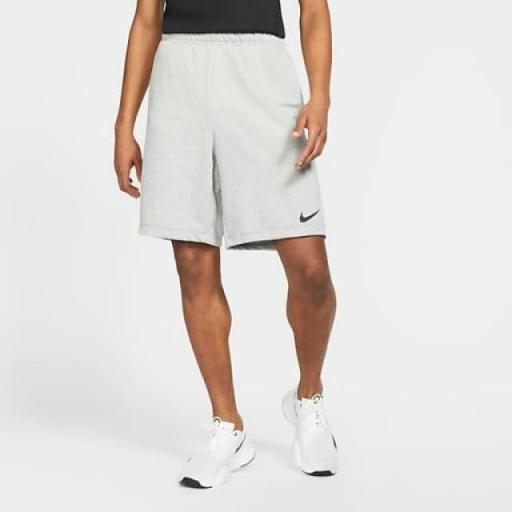Nike: (296, 207, 321, 225)
